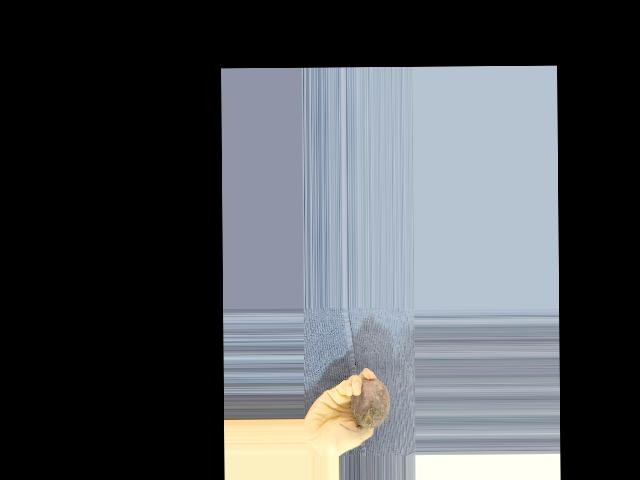beet: (338, 378, 389, 433)
